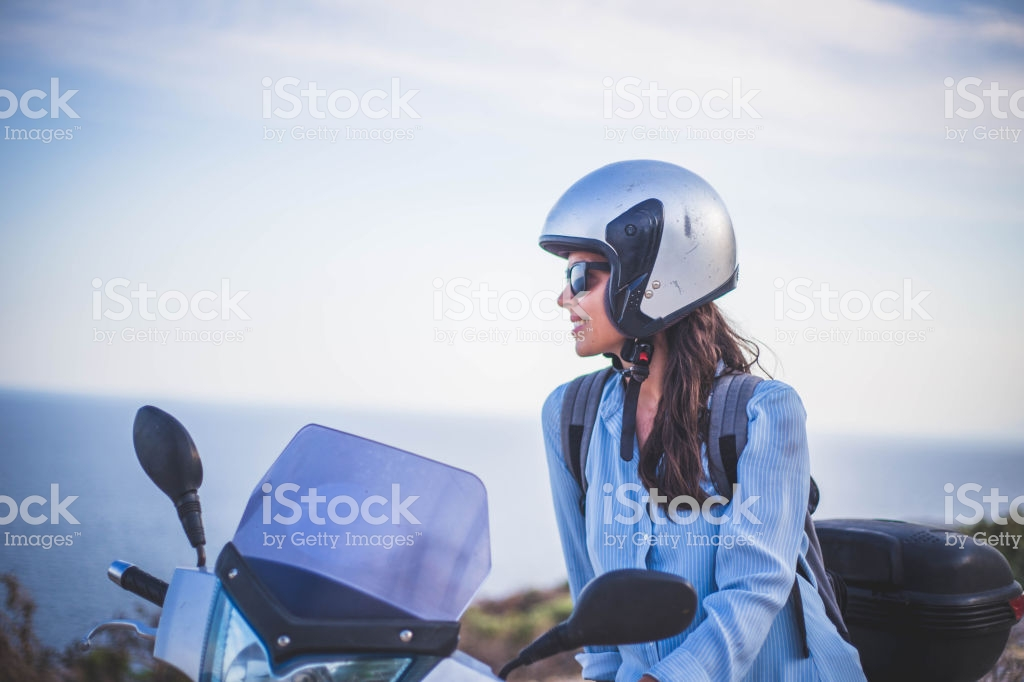helmet: (524, 157, 759, 353)
